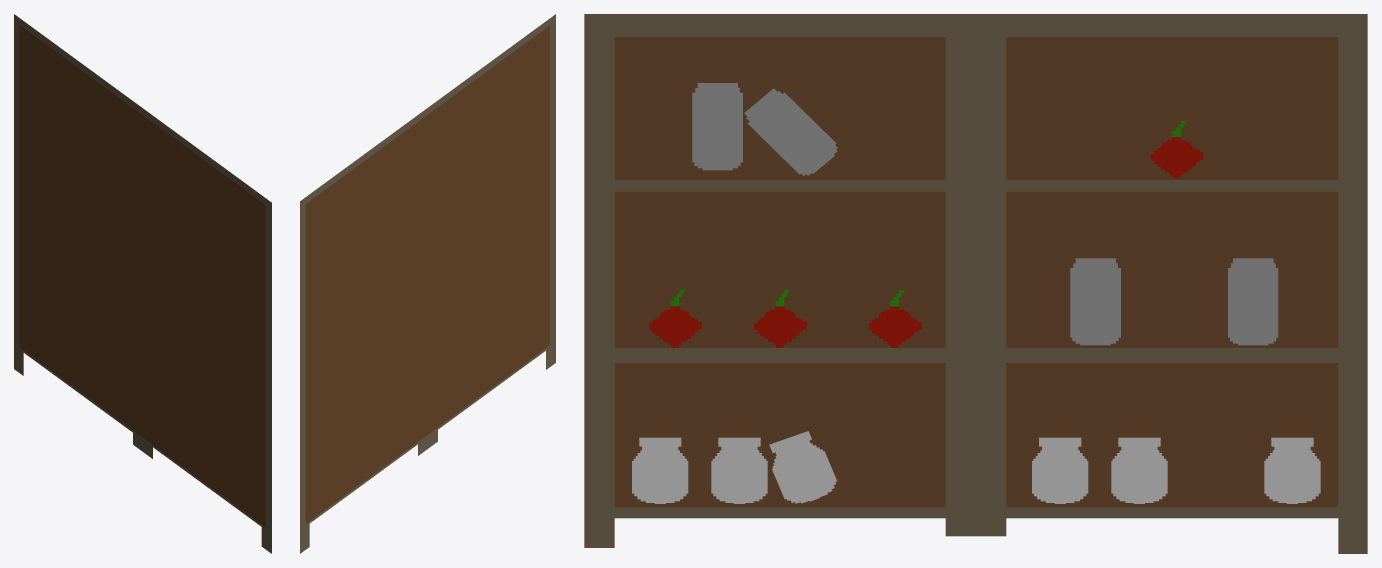
The model's file is armoir2.fbx.
3 views of the same model, side by side, from view 1: azimuth 30°, elevation 25°; view 2: azimuth 150°, elevation 25°; view 3: azimuth 270°, elevation 25° (orthographic). The views are drawn at different scales.
Parts seen in each view (by area): view 1: Mesh_021; view 2: Mesh_021; view 3: Mesh_021, Mesh_034, Mesh_033, Mesh_026, Mesh_025, Mesh_032, Mesh_030, Mesh_027, Mesh_031, Mesh_029, Mesh_028, Mesh_035 (+3 smaller).
Part boxes in pixels (x1,y1,x2,y2): Mesh_021: (14,14,271,553); Mesh_021: (300,14,555,553); Mesh_021: (584,14,1367,553); Mesh_034: (1070,258,1120,345); Mesh_033: (1228,258,1278,345); Mesh_026: (692,83,742,170); Mesh_025: (744,88,837,175); Mesh_032: (711,437,767,503); Mesh_030: (1111,437,1167,503); Mesh_027: (1264,437,1320,503); Mesh_031: (1032,437,1088,503); Mesh_029: (632,437,688,503); Mesh_028: (769,431,836,503); Mesh_035: (1150,120,1203,178).
Bounding box in the file's own units: 0.0393 × 4.89 × 6.43.
